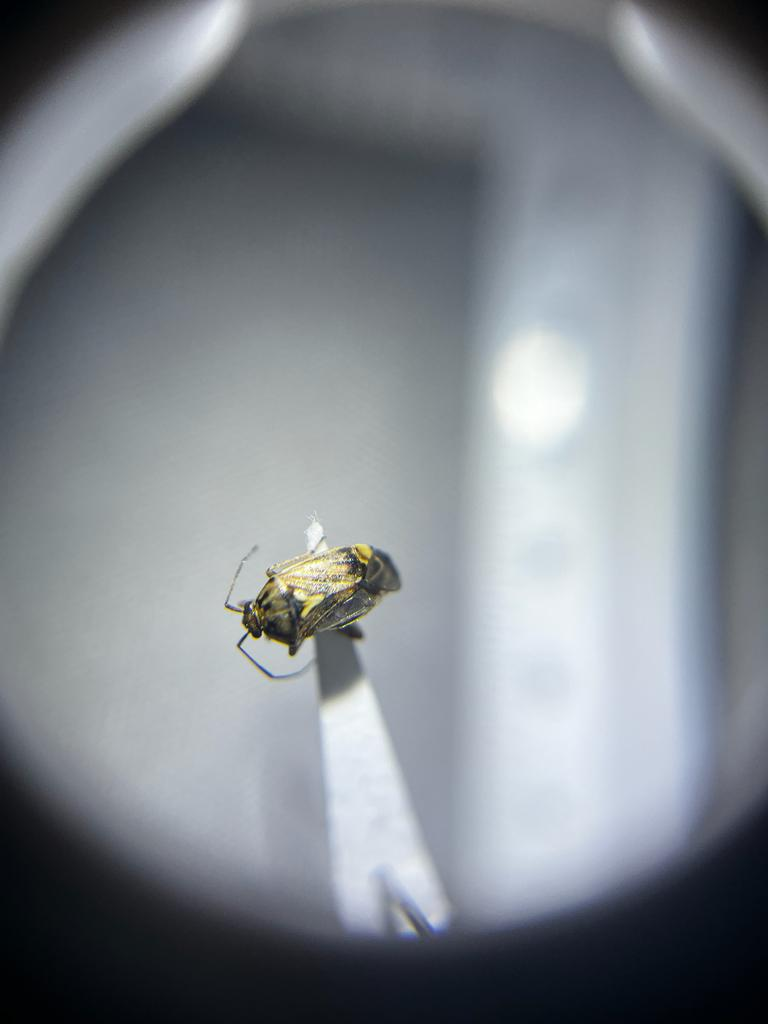plant_bugs: (184, 466, 463, 722)
